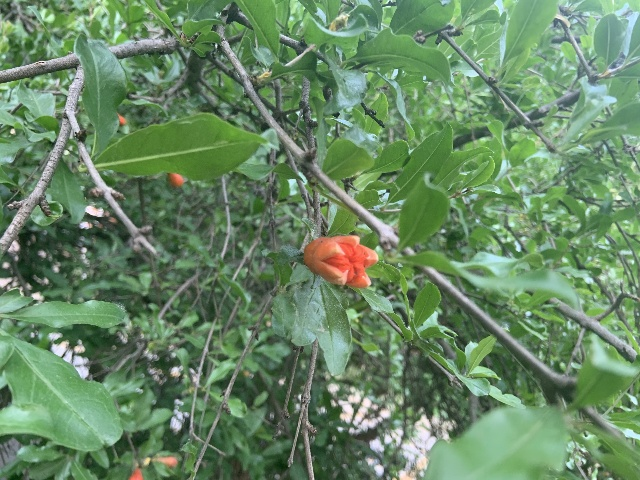bud: (155, 456, 178, 468), (167, 173, 183, 188)
flower: (303, 234, 378, 288)
